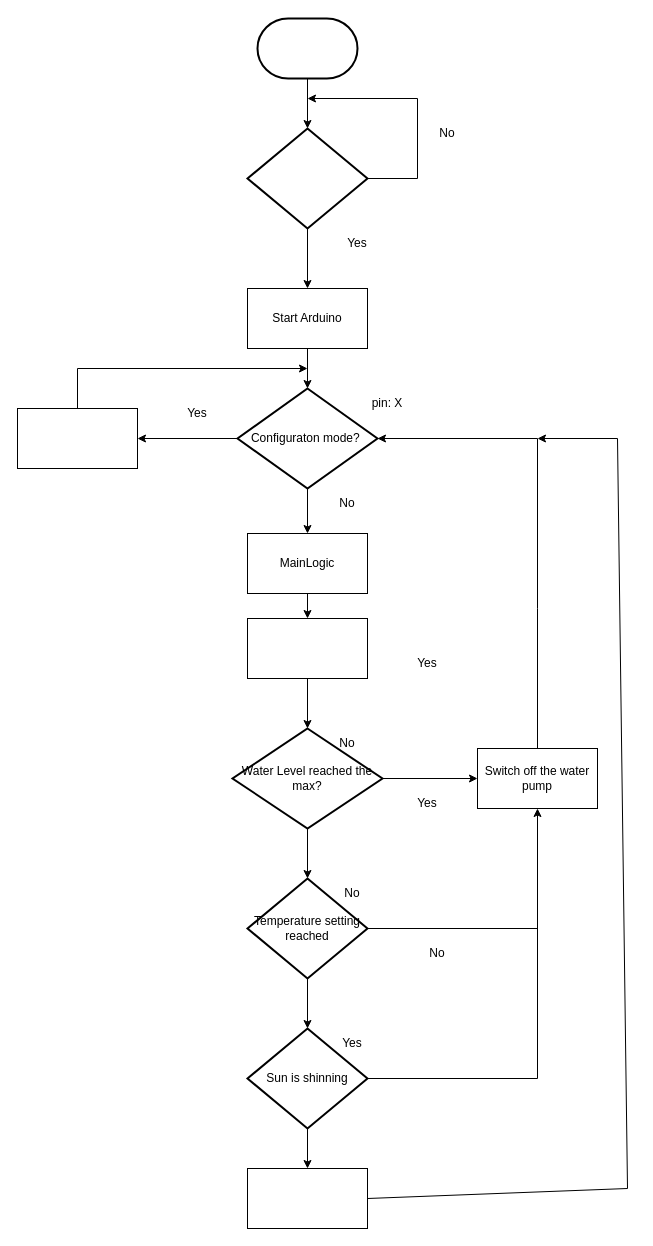
The diagram is 653 pixels wide and 1246 high, and some of its shapes have lost their labels. Each missing label, with the centre of its shape:
Power on?: the point at 307,178
ReachWater: the point at 307,648
Receive config from PC: the point at 77,438
Switch on the water pump: the point at 307,1198
